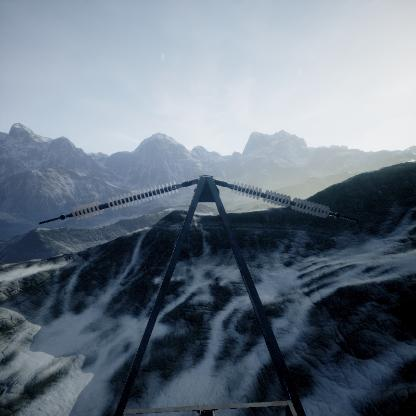insulator: (64, 178, 183, 221), (230, 177, 336, 221)
